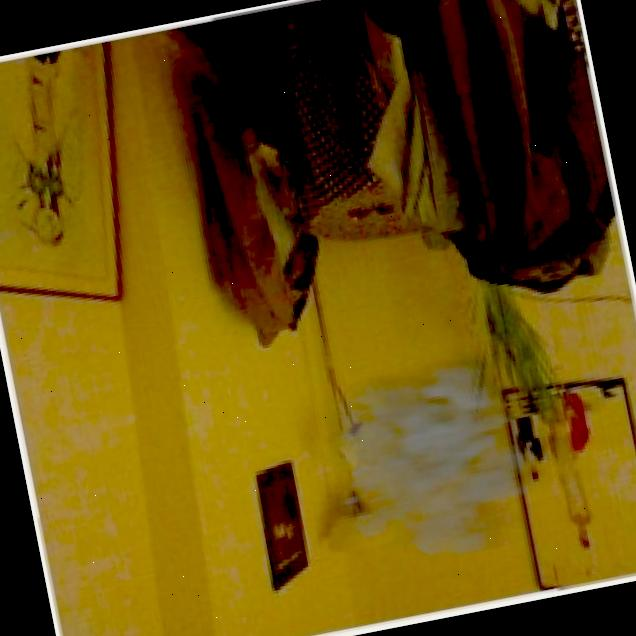smoke: (286, 332, 564, 580)
